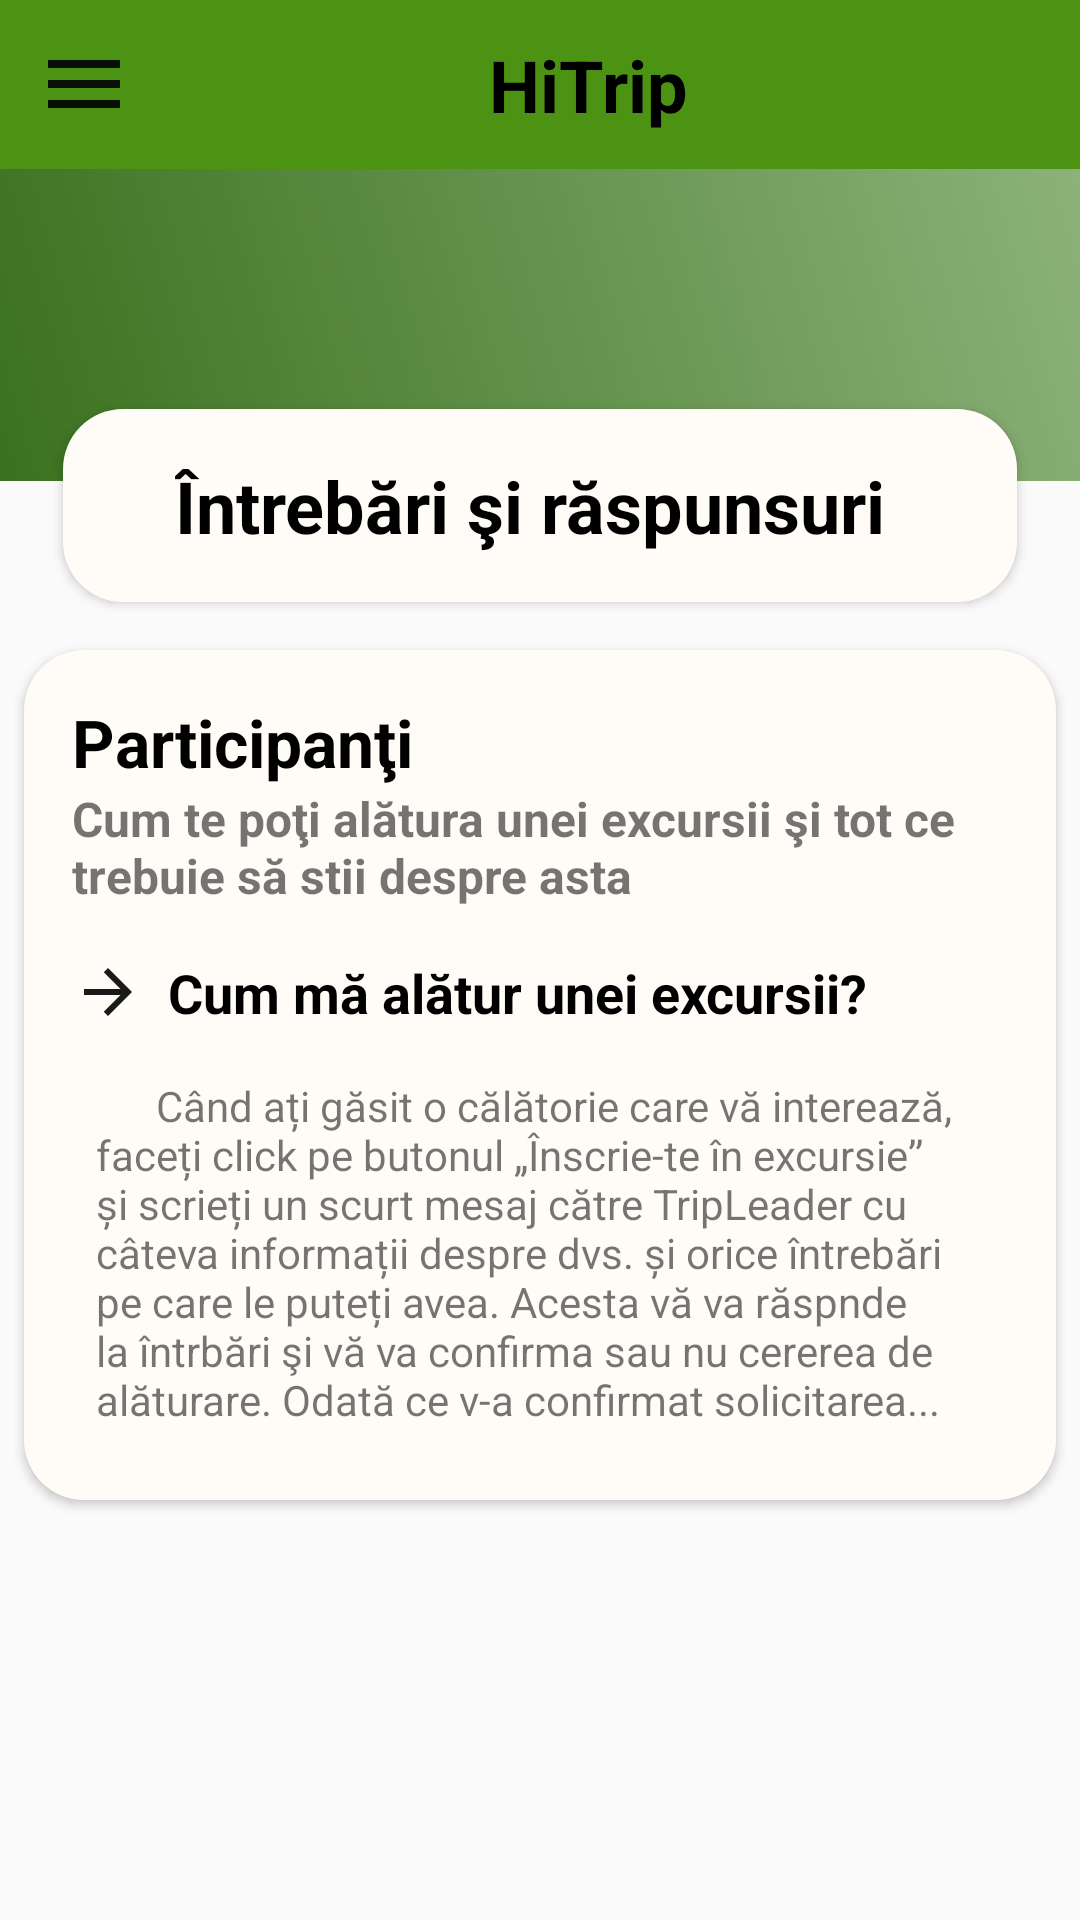

Screen size 1080px x 1920px. Icon name, then its box in pixels as (left=x1, top=y1, right=x2, bottom=y2):
arrow forward: (left=84, top=968, right=132, bottom=1016)
menu: (left=48, top=60, right=120, bottom=108)
